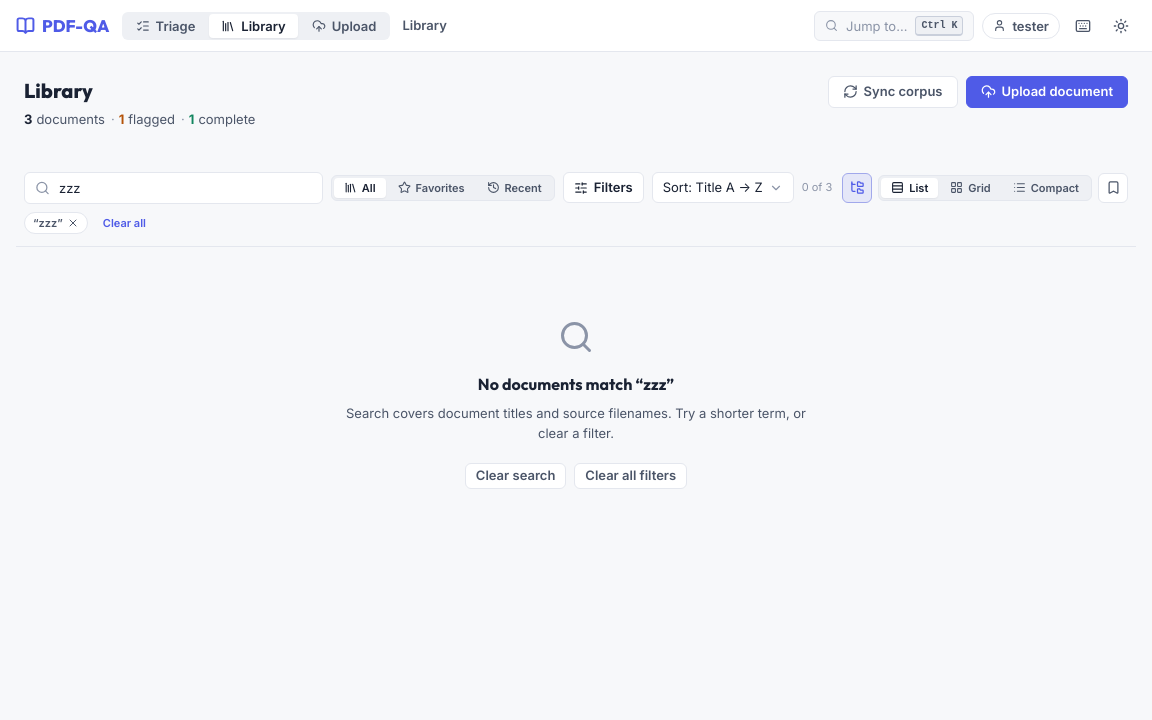
Test: Library page › shows a targeted no-results state for a search
Check: the heading "No documents match “zzz”" is shown, box [478,372,674,396]
Click the button "Clear search". click: (516, 476)
box: [465,463,566,489]
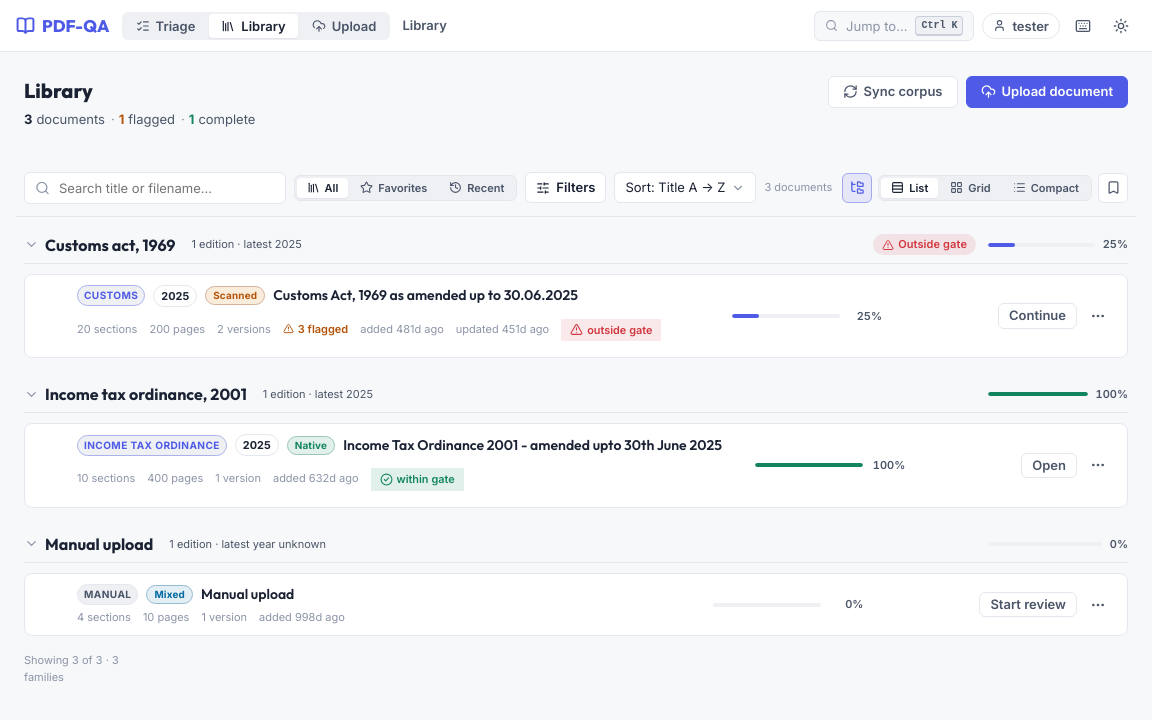
Check: the text "3 documents" is shown, box [764,179,832,196]
